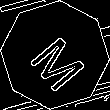M_NE: (21, 21, 89, 89)
